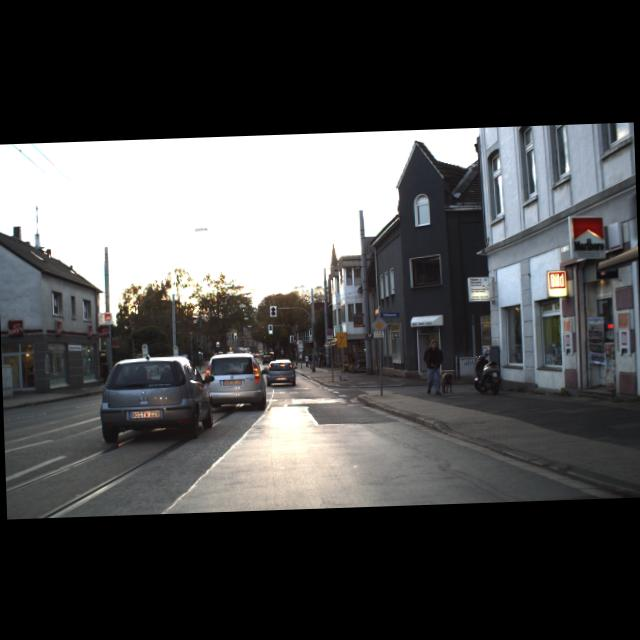other: (369, 314, 386, 332)
